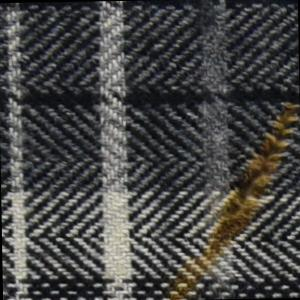Oil Stain: (161, 92, 300, 300)
